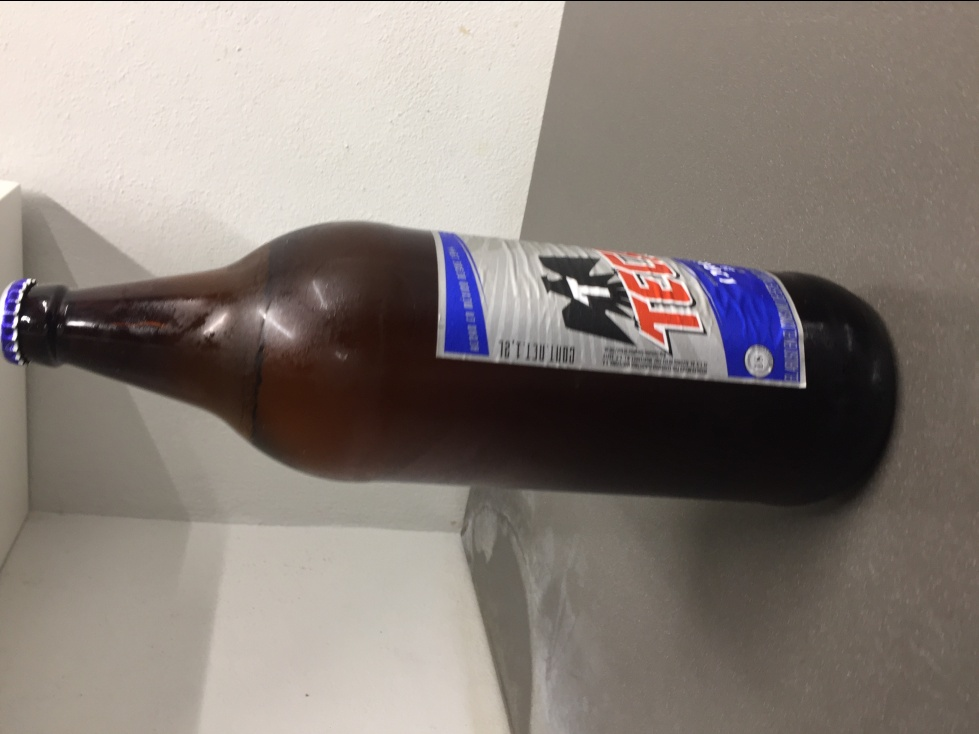tecateC: (7, 213, 897, 505)
